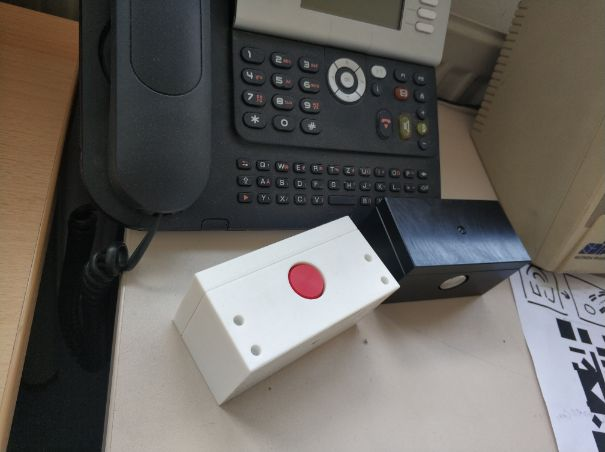black+black+silver: (370, 197, 533, 305)
white+white+red: (169, 209, 402, 408)
